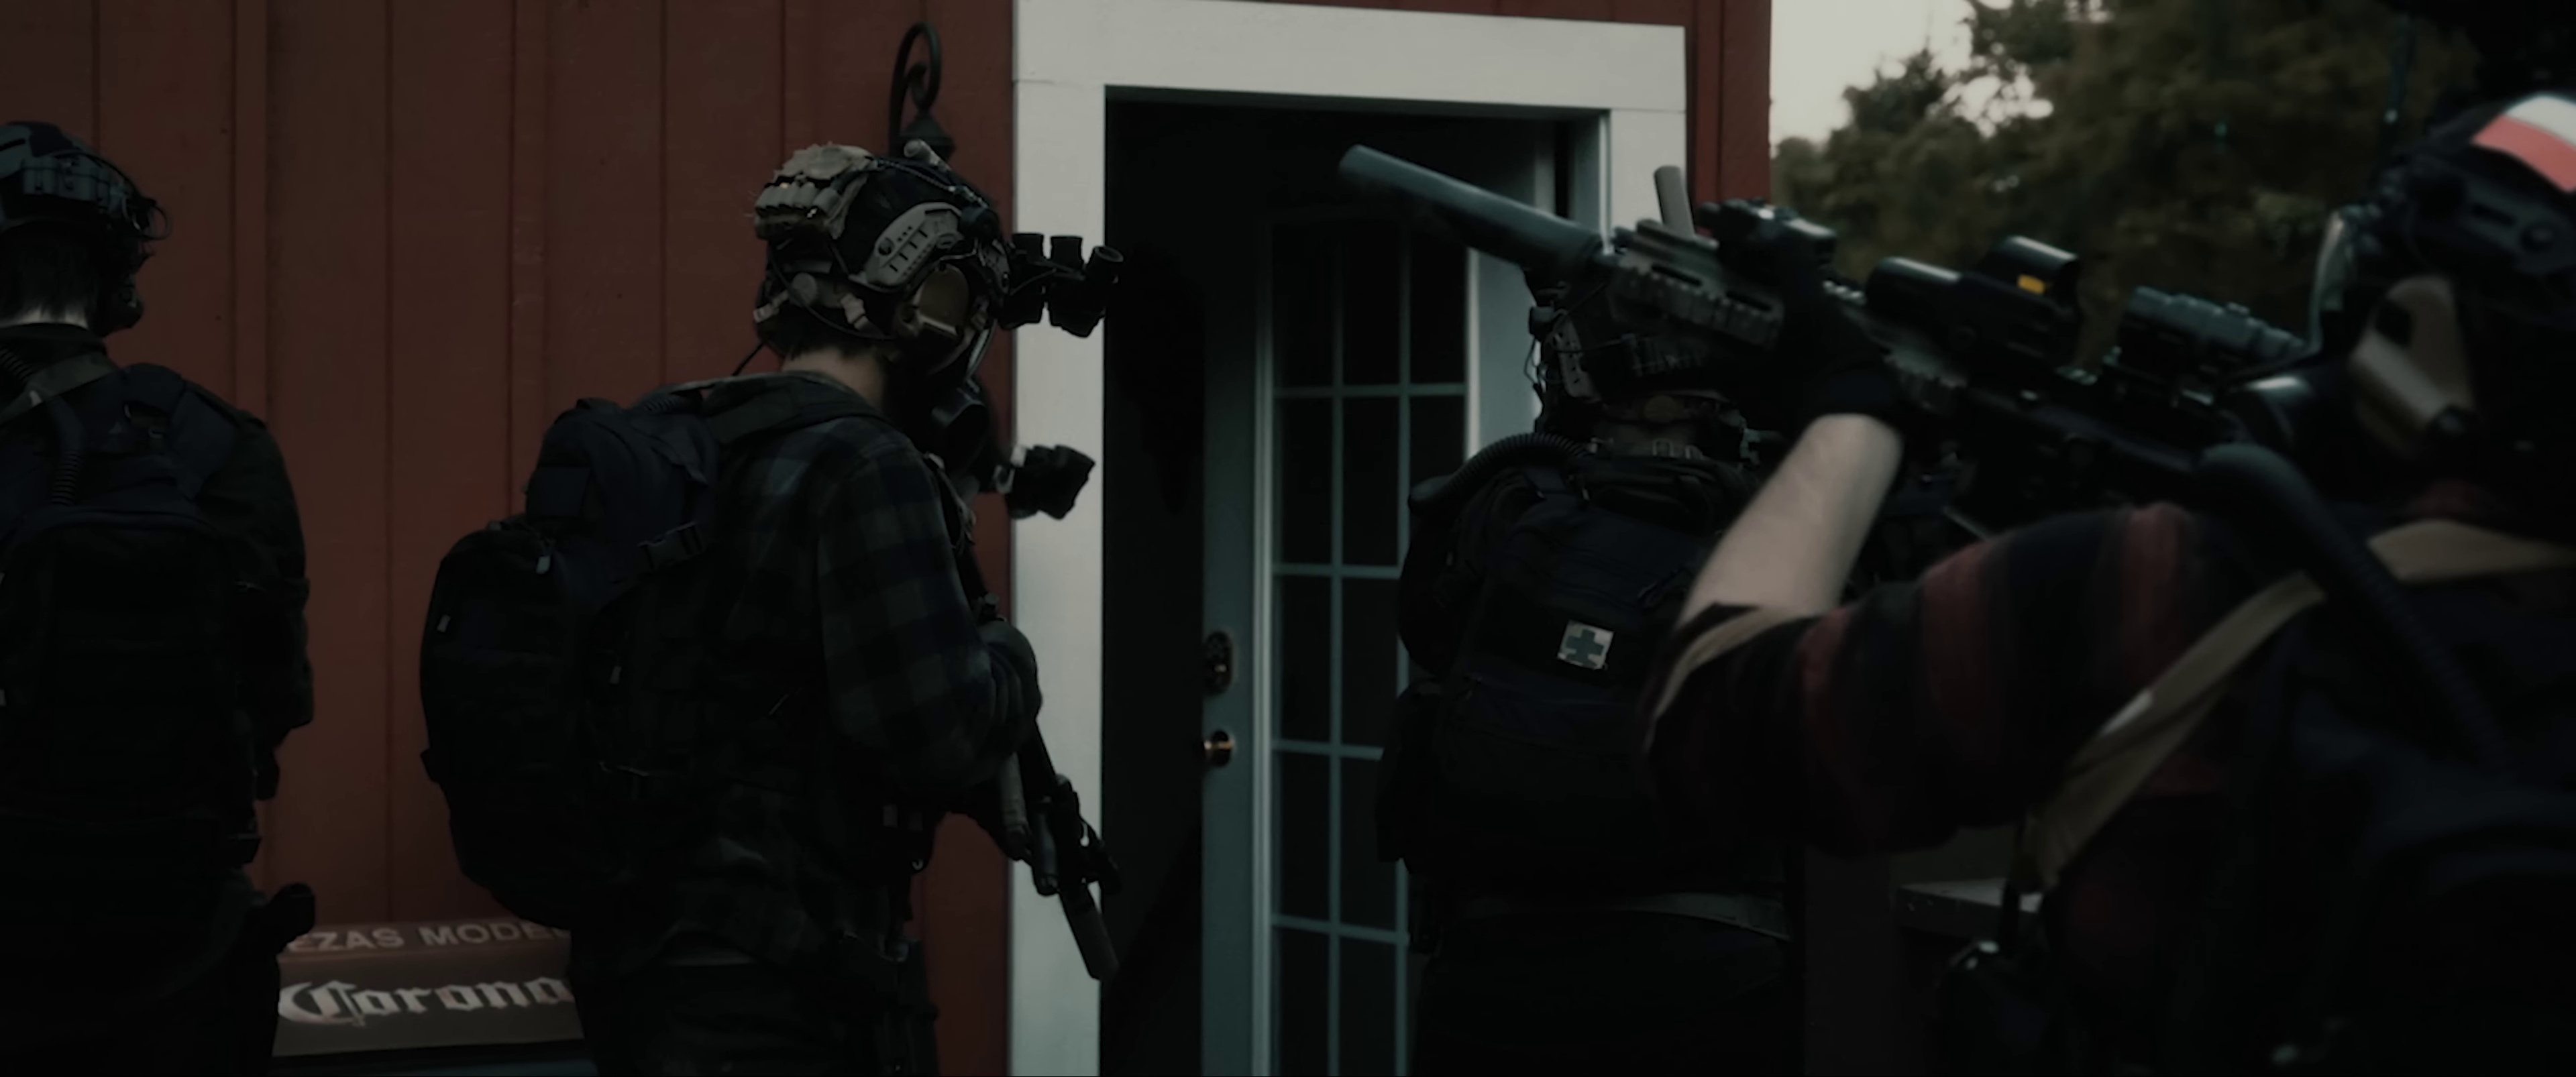gun: (1322, 126, 2389, 573), (908, 440, 1129, 992), (217, 873, 324, 1059)
p_w_gun: (1304, 89, 2576, 1077), (422, 102, 1130, 1077), (0, 107, 327, 1077)
p_wo_gun_not_carrying_normal_pose: (1395, 220, 1871, 1046)
